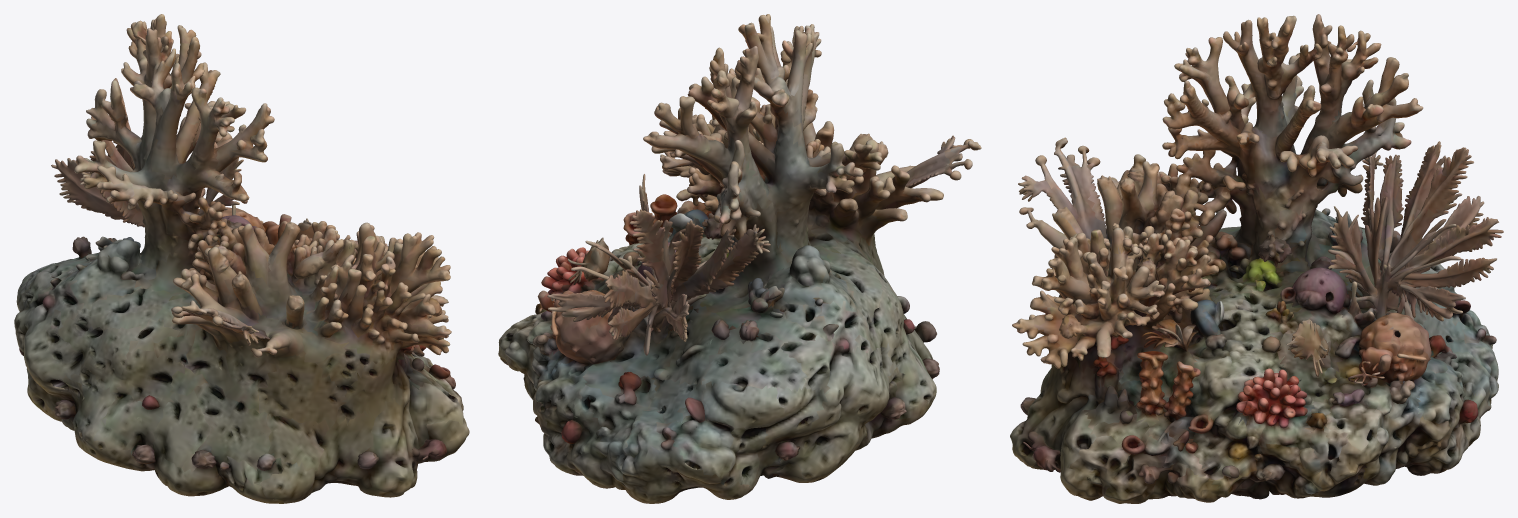
File: CoralCluster.glb
The picture shows the model from 3 angles, left to right: view 1: azimuth 30°, elevation 25°; view 2: azimuth 150°, elevation 25°; view 3: azimuth 270°, elevation 25°; orthographic projection. The views are drawn at different scales.
Parts seen in each view (by area): view 1: tripo_node_7975c06a-bf08-4f32-b494-3820de9c8e1f; view 2: tripo_node_7975c06a-bf08-4f32-b494-3820de9c8e1f; view 3: tripo_node_7975c06a-bf08-4f32-b494-3820de9c8e1f.
Boxes of the visible parts, bbox=[...] form: tripo_node_7975c06a-bf08-4f32-b494-3820de9c8e1f: bbox=[14, 14, 469, 503]; tripo_node_7975c06a-bf08-4f32-b494-3820de9c8e1f: bbox=[498, 14, 981, 503]; tripo_node_7975c06a-bf08-4f32-b494-3820de9c8e1f: bbox=[1010, 14, 1503, 503].
Bounding box in the file's own units: 0.8326 × 0.9131 × 0.9999.
Materials: 1 (1 with a texture image).
